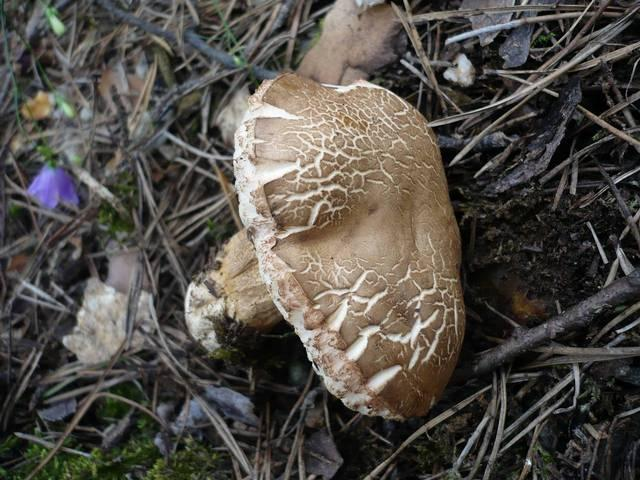Non-edible Mushroom: (229, 70, 467, 422)
